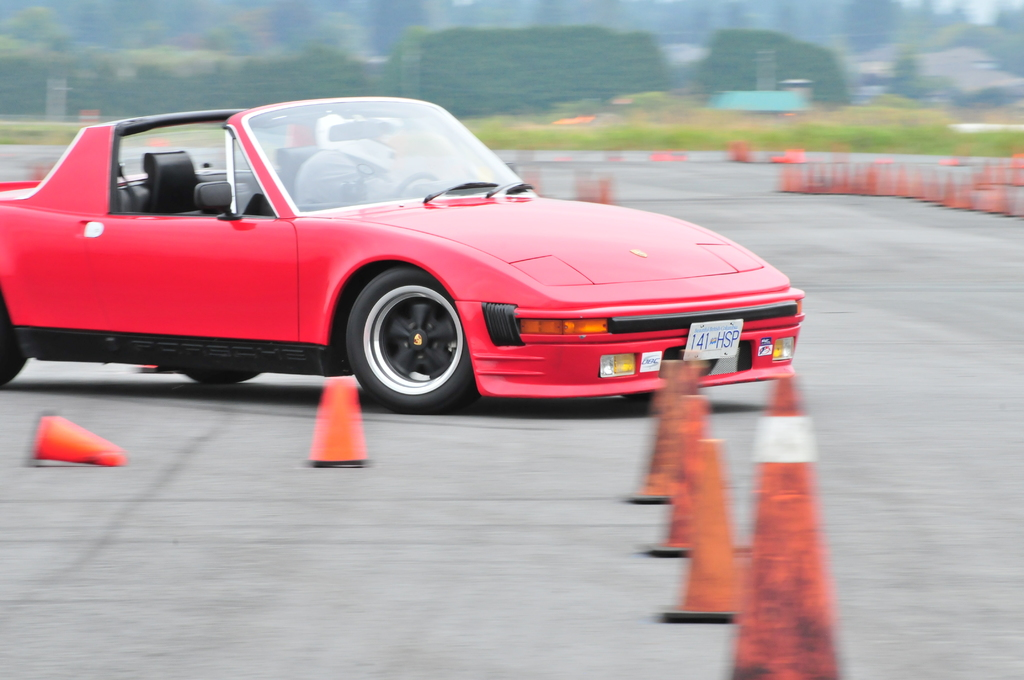Car: (0, 95, 807, 412)
